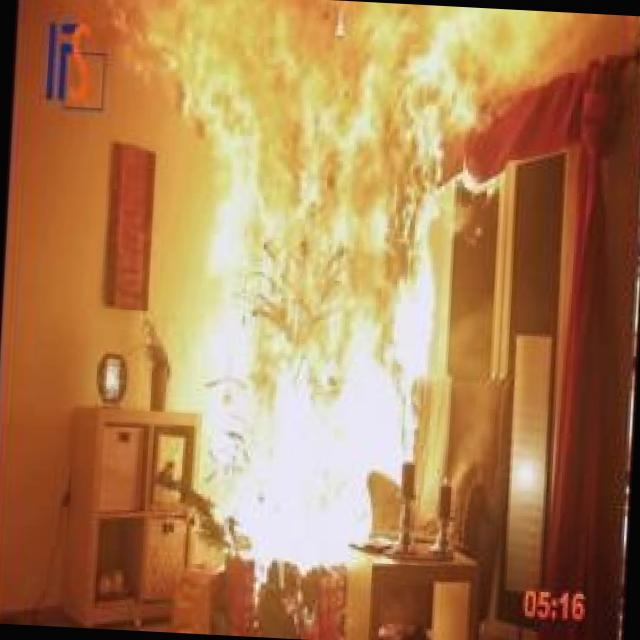fire: (113, 0, 516, 607)
